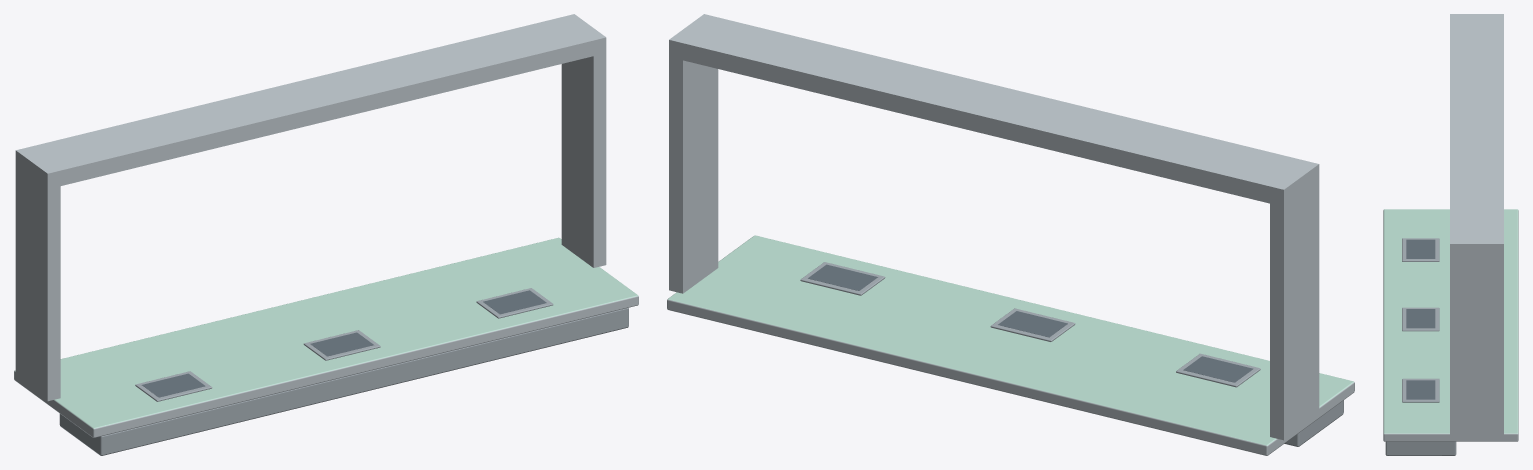
The model's file is SM_StationWindow_Delivery.glb.
3 renders of one model, left to right at view 1: azimuth 30°, elevation 25°; view 2: azimuth 150°, elevation 25°; view 3: azimuth 270°, elevation 25°, orthographic. The views are drawn at different scales.
Parts seen in each view (by area): view 1: SM_StationWindow_Delivery, Kasa_Sove; view 2: SM_StationWindow_Delivery, Kasa_Sove; view 3: Kasa_Sove, SM_StationWindow_Delivery.
Boxes of the visible parts, box(x1,y1,x2,y2) form: SM_StationWindow_Delivery: box(14, 237, 638, 455); Kasa_Sove: box(15, 14, 606, 401); SM_StationWindow_Delivery: box(667, 235, 1354, 455); Kasa_Sove: box(669, 14, 1319, 440); Kasa_Sove: box(1450, 14, 1503, 436); SM_StationWindow_Delivery: box(1383, 209, 1518, 455).
Bounding box in the file's own units: 2.62 × 1.16 × 0.65.
Materials: 3 (3 with a texture image).
